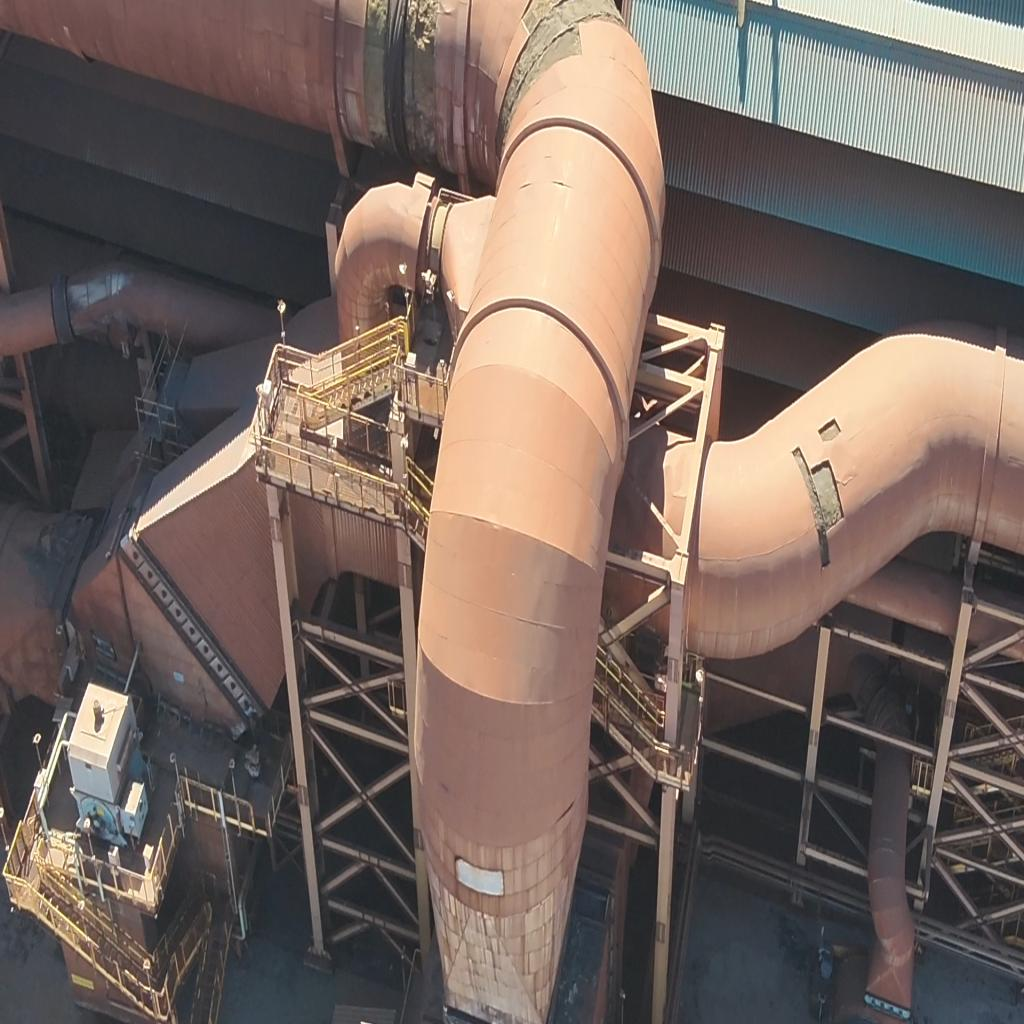Failures: (485, 0, 631, 129), (786, 446, 853, 578), (401, 11, 443, 155), (363, 5, 391, 144), (818, 408, 844, 458)
